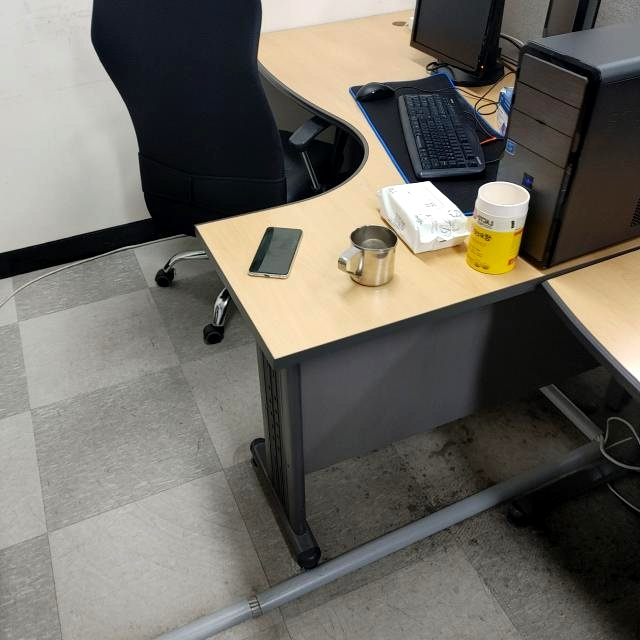cup: (338, 221, 398, 287)
phone: (247, 224, 303, 282)
